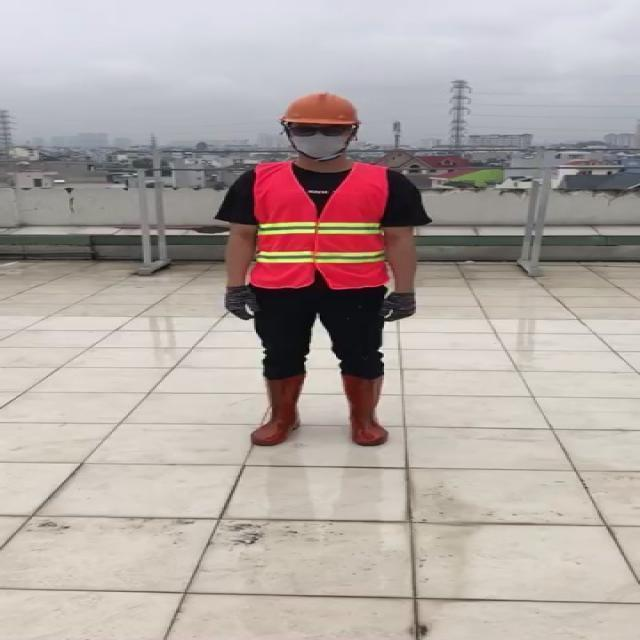gloves: (373, 288, 421, 330), (218, 278, 260, 326)
helmet: (273, 92, 367, 134)
safety_vest: (245, 157, 391, 290)
